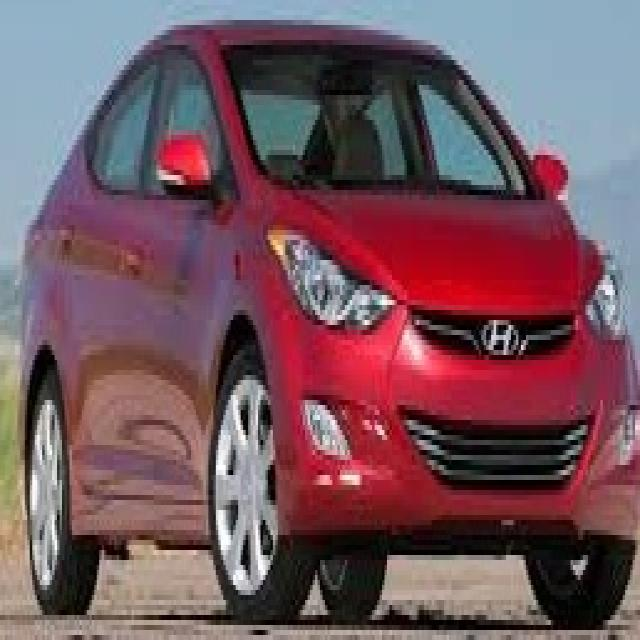red: (22, 21, 640, 580)
